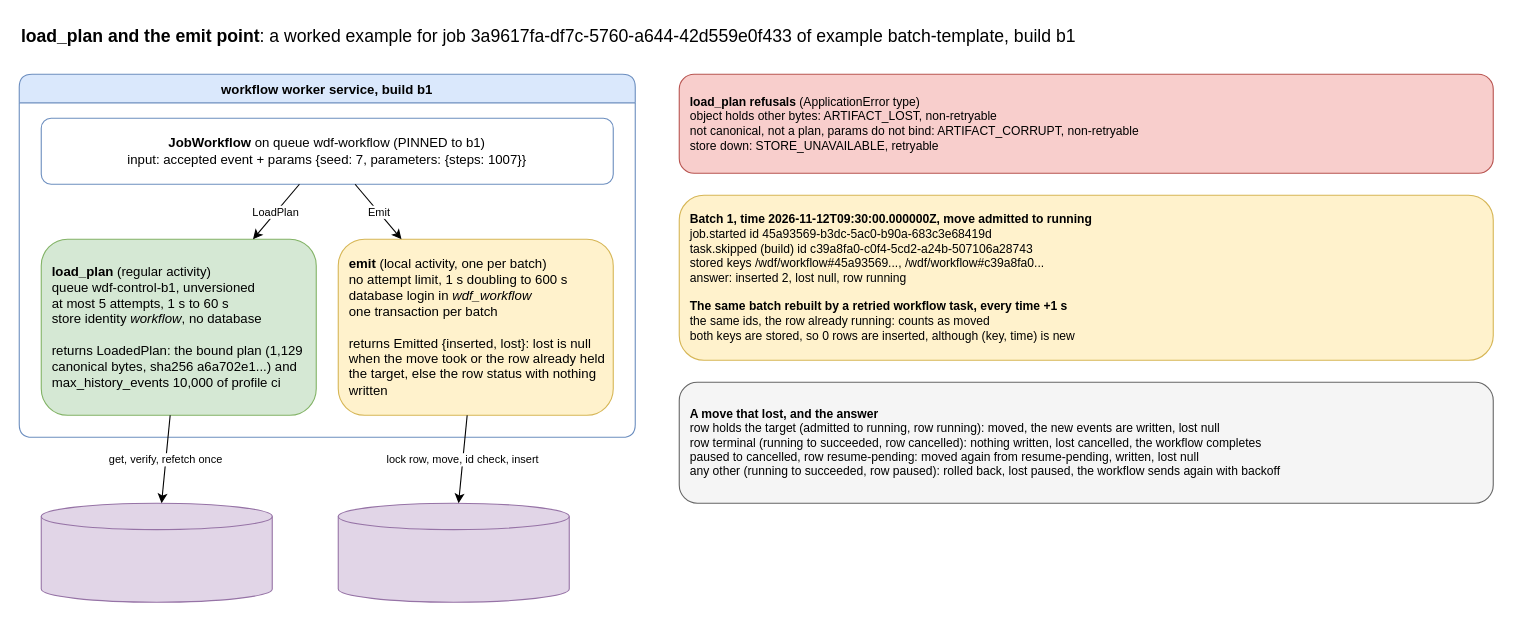
Image size: 1513x622. Some labels were removed from this diagram. Each missing label, with the centre of its shape:
"object store wdf-sources sha256/a8/a829c500...7b58 manifest.json, 1,157 bytes" goes at [156,552].
"Postgres accepted_job.status event (event_id, event_time)" goes at [453,552].
